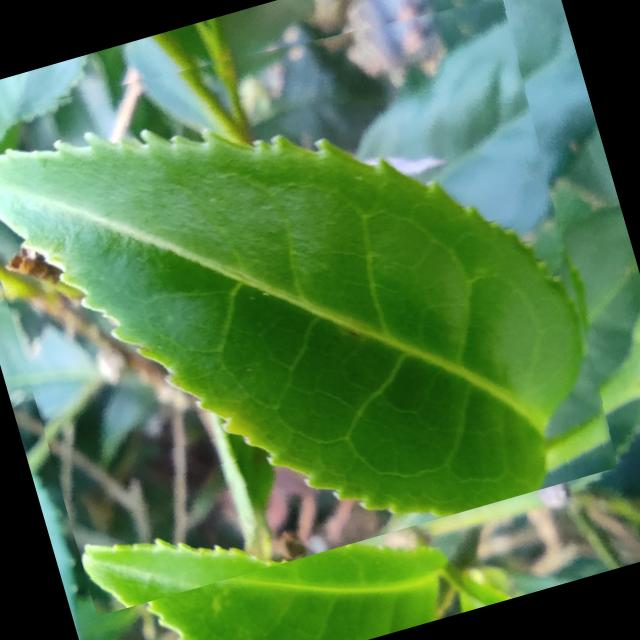Category C(4-7 days): (0, 0, 635, 615)
